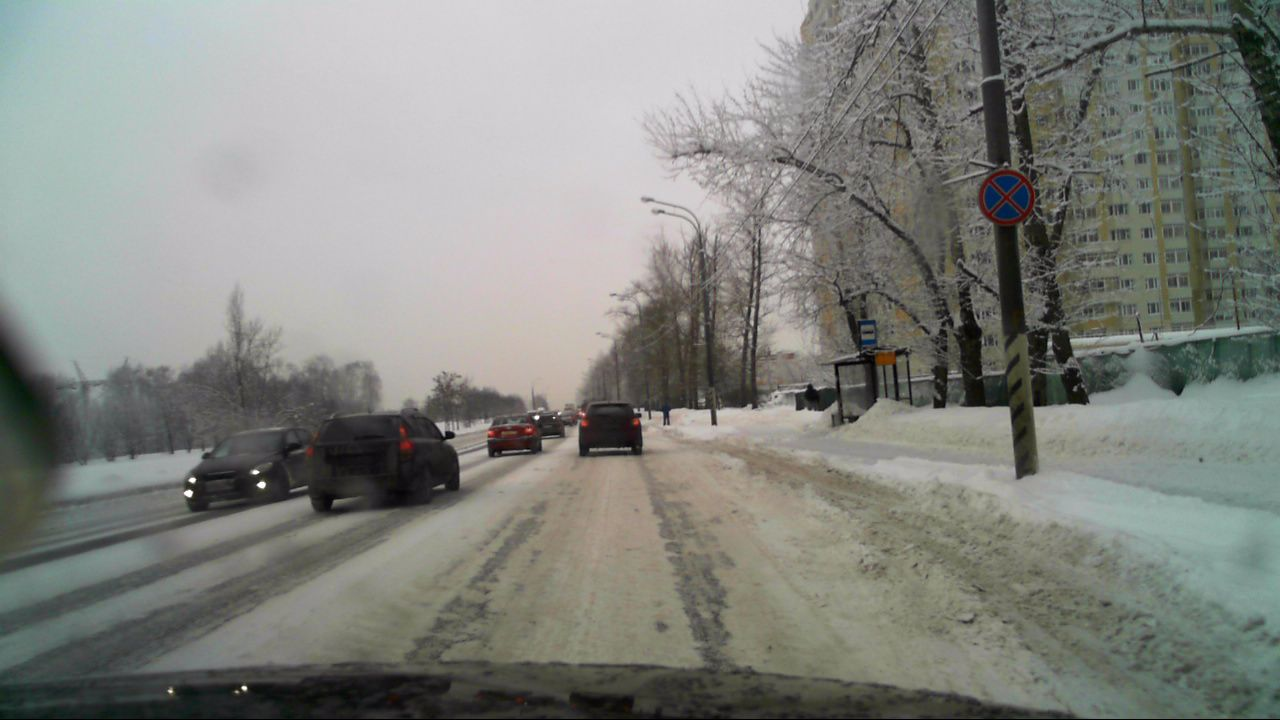No Parking: (975, 169, 1033, 226)
